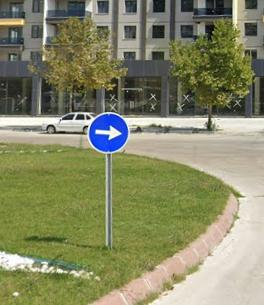turnright: (88, 113, 130, 154)
